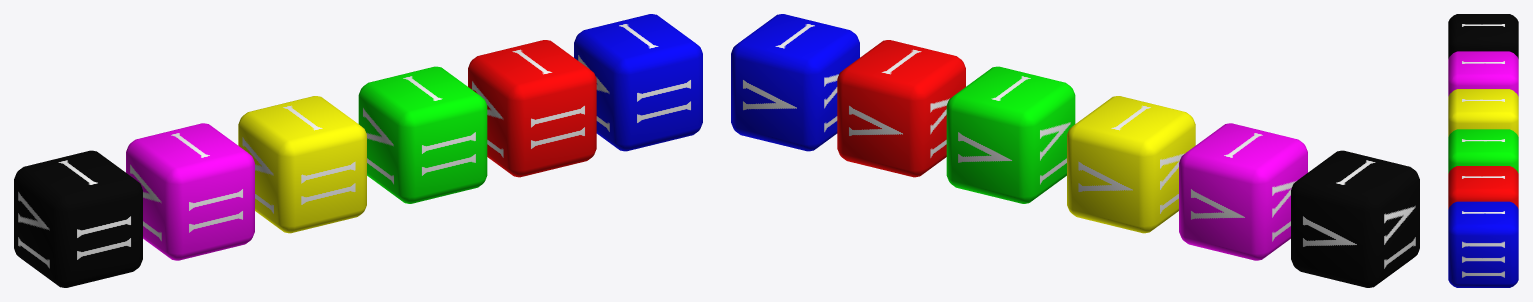
The model's file is dice.glb.
The picture shows the model from 3 angles, left to right: view 1: azimuth 30°, elevation 25°; view 2: azimuth 150°, elevation 25°; view 3: azimuth 270°, elevation 25°; orthographic projection. The views are drawn at different scales.
Visible parts, largest first — view 1: Cube, Cube.003, Cube.002, Cube.001, Cube.004, Cube.005; view 2: Cube, Cube.003, Cube.002, Cube.001, Cube.004, Cube.005; view 3: Cube.005, Cube.002, Cube.001, Cube, Cube.003, Cube.004.
Boxes of the visible parts, x1,y1,x2,y2 form: Cube: (14, 150, 142, 287); Cube.003: (358, 66, 487, 203); Cube.002: (238, 96, 366, 233); Cube.001: (126, 123, 254, 260); Cube.004: (468, 40, 596, 177); Cube.005: (574, 14, 702, 151); Cube: (1291, 150, 1419, 287); Cube.003: (946, 66, 1075, 203); Cube.002: (1067, 96, 1195, 233); Cube.001: (1179, 123, 1307, 260); Cube.004: (837, 40, 965, 177); Cube.005: (731, 14, 859, 151); Cube.005: (1448, 201, 1518, 287); Cube.002: (1448, 89, 1518, 136); Cube.001: (1448, 51, 1518, 96); Cube: (1448, 14, 1518, 58); Cube.003: (1448, 129, 1518, 173); Cube.004: (1448, 166, 1518, 208).
Size of the model in its own units: 14.58 by 2 by 2.
Materials: 6 (6 with a texture image).
